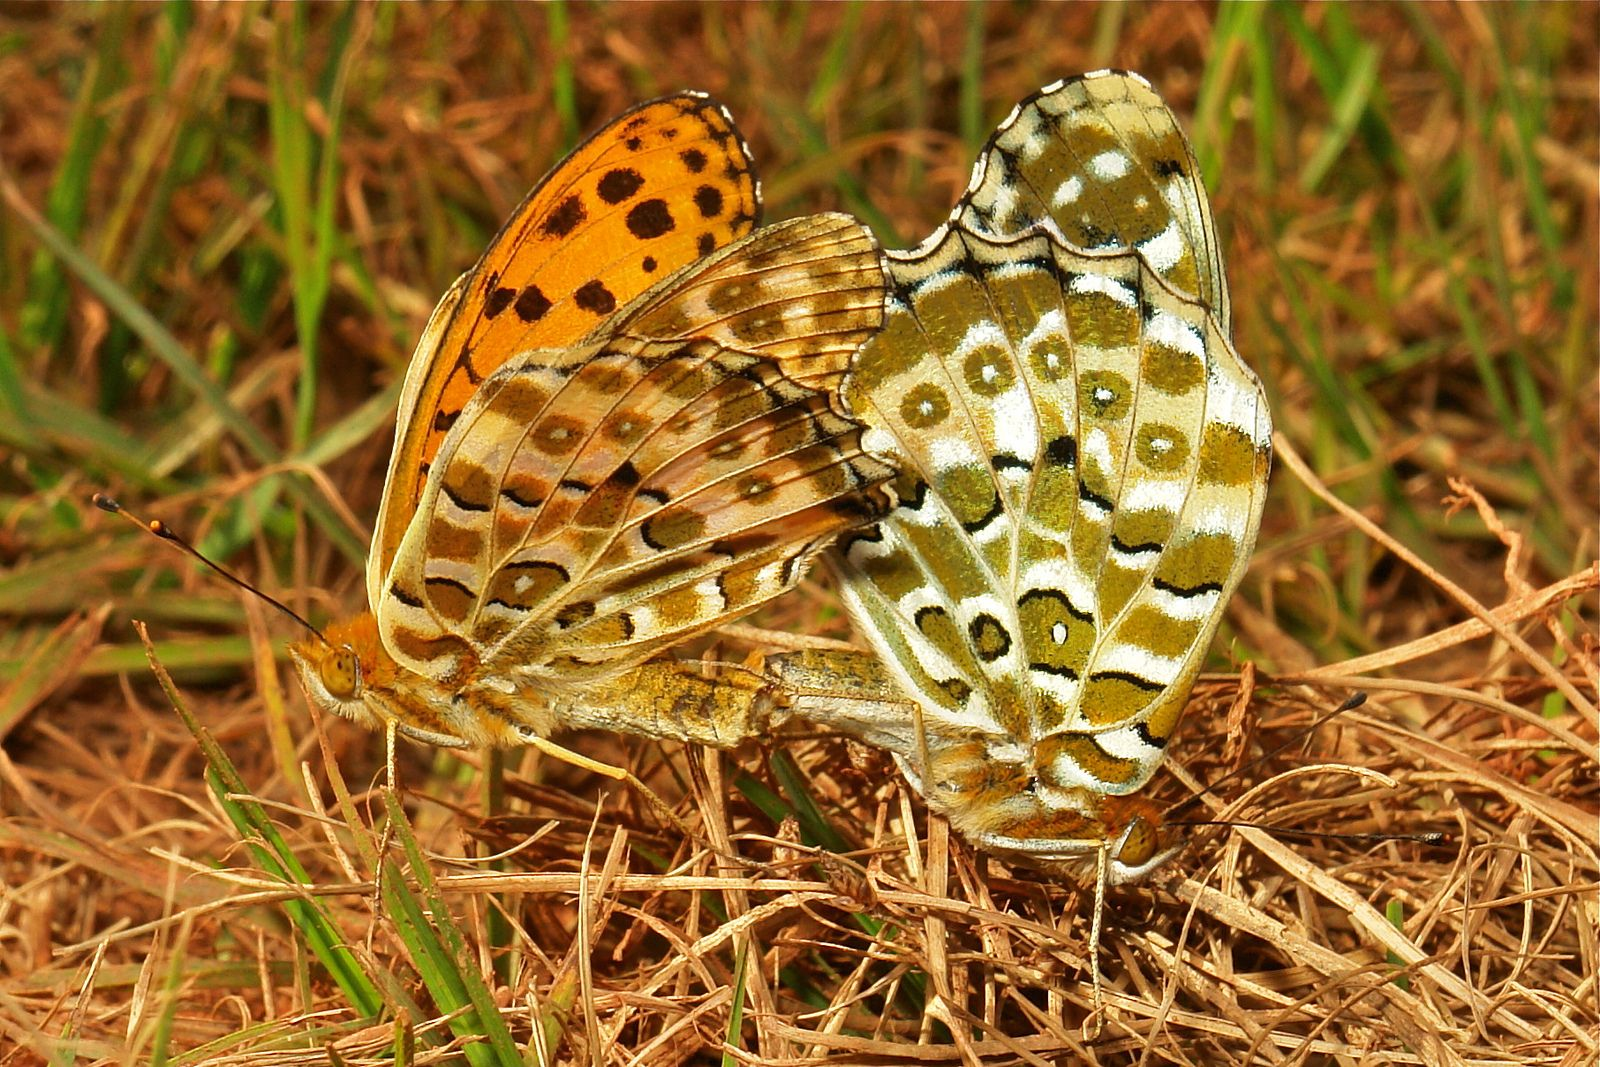Argyreus hyperbius: (71, 83, 915, 900), (770, 60, 1308, 1036)
butterfly: (74, 85, 917, 901), (771, 61, 1310, 1038)
